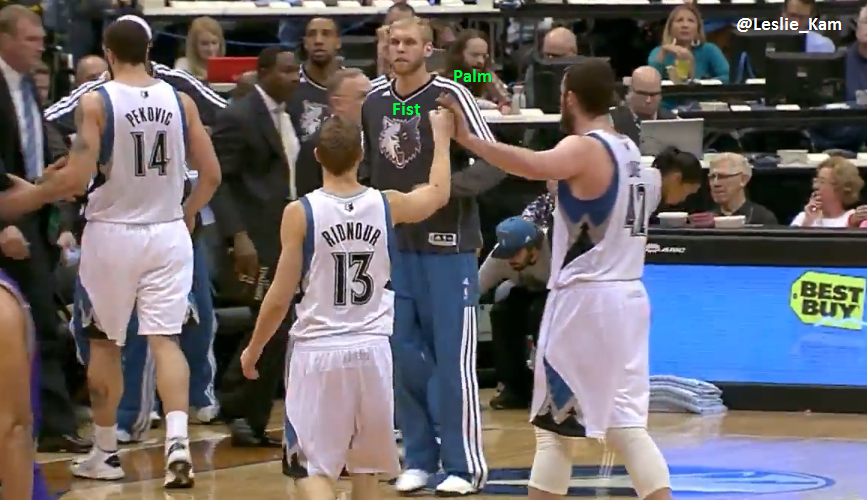player: (450, 51, 671, 497), (14, 19, 218, 485), (238, 109, 450, 499), (356, 20, 493, 492)
